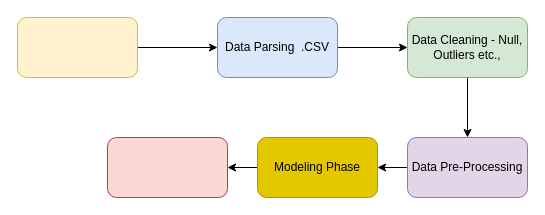
Image size: 545x215. Some labels were removed from this diagram. The centre of each missing label's shape, as x and y in pixels:
"DrugBank Dataset - REST API . XML" belongs at point 77,47.
"Evaluation Phase, MAE, MSE, R2" belongs at point 167,167.
